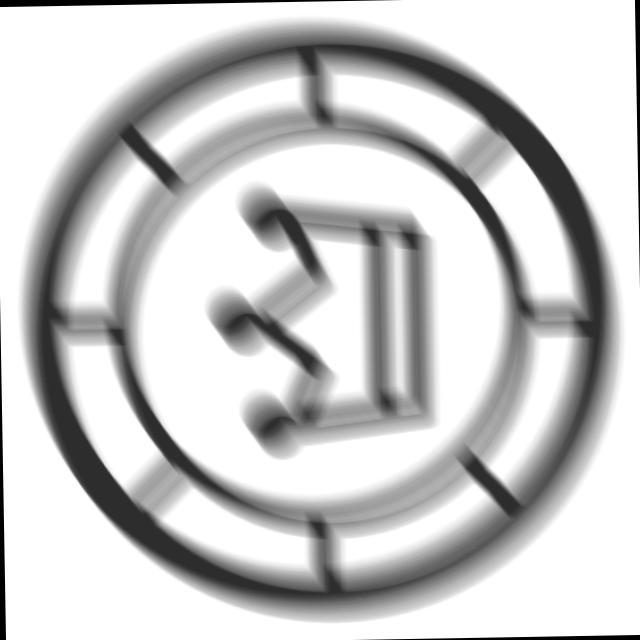coin: (9, 11, 638, 634)
